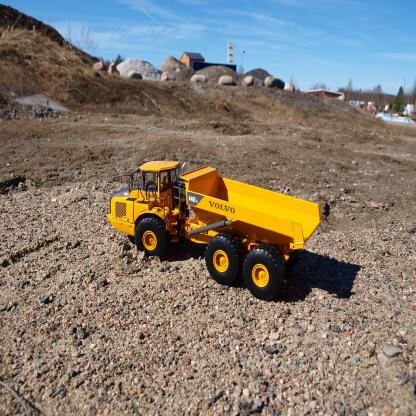dump_truck: (106, 147, 326, 304)
